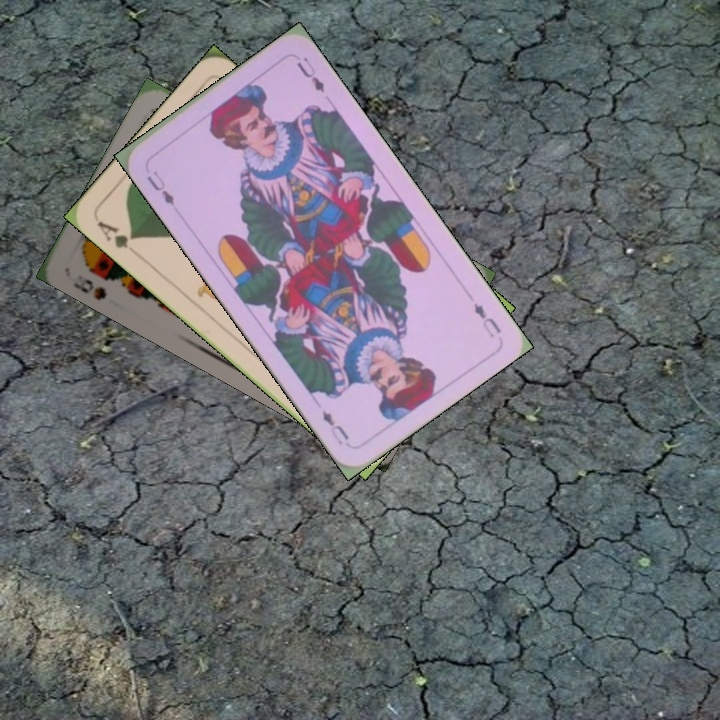EU: (142, 167, 181, 214), (469, 298, 503, 341)
GA: (93, 216, 142, 259)
S8: (69, 275, 109, 303)
